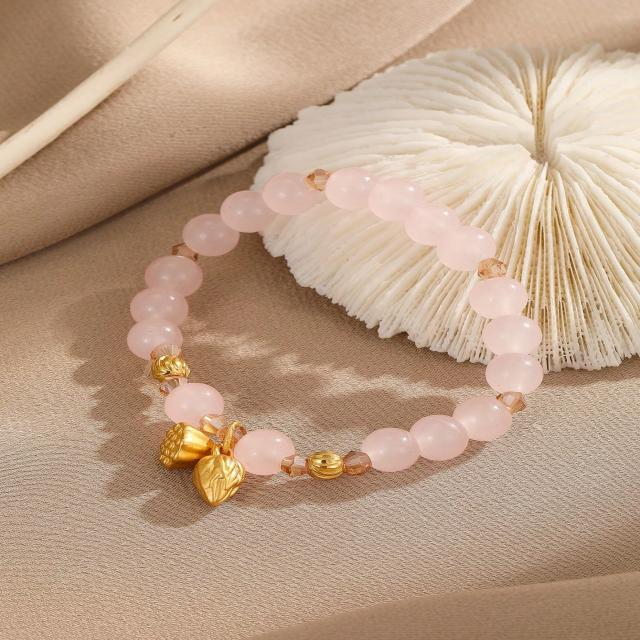bracelet: (86, 114, 606, 526)
